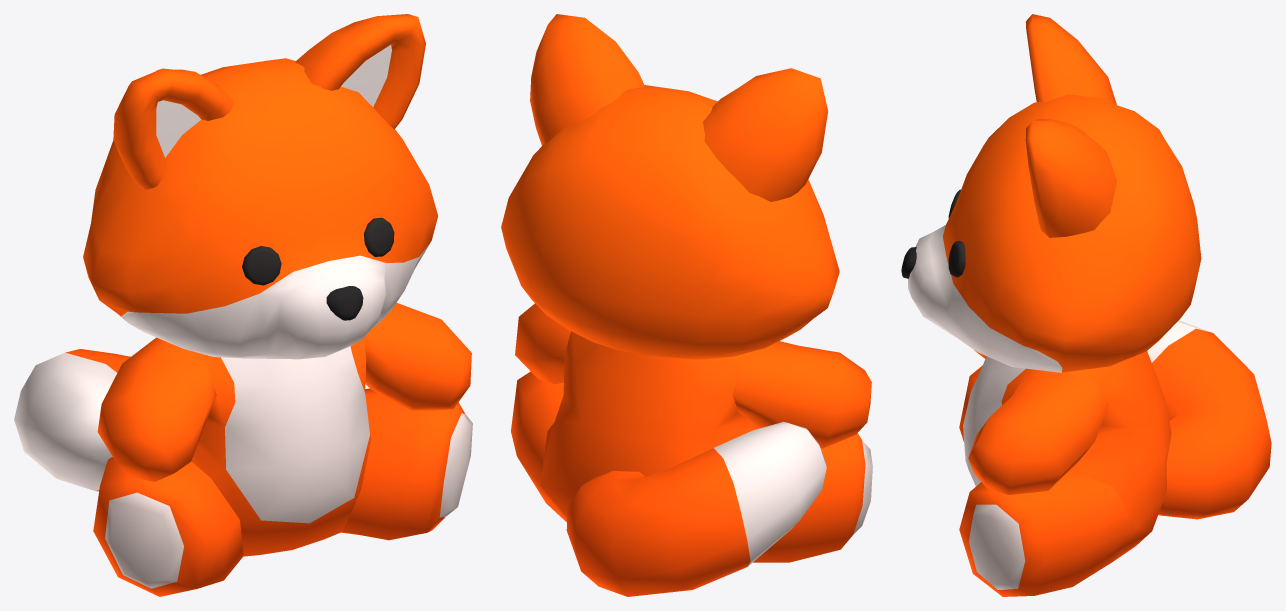
The model's file is Fox_01.glb.
3 views of the same model, side by side, from view 1: azimuth 30°, elevation 25°; view 2: azimuth 150°, elevation 25°; view 3: azimuth 270°, elevation 25° (orthographic). The views are drawn at different scales.
Parts seen in each view (by area): view 1: Fox_01; view 2: Fox_01; view 3: Fox_01.
Part boxes in pixels (<box>): Fox_01: <box>14,14,472,596</box>; Fox_01: <box>501,14,872,596</box>; Fox_01: <box>901,14,1271,596</box>.
Bounding box in the file's own units: 0.3328 × 0.4466 × 0.3178.
Materials: 2 (2 with a texture image).
